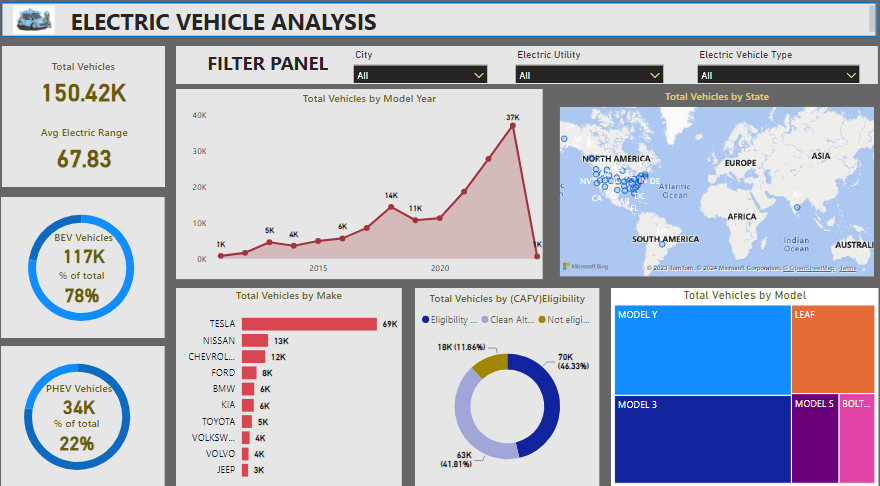

The dashboard page shown, as its layout file describes it:
{"tool":"powerbi","page":{"name":"Page 1","canvas":[1280,720],"ordinal":0},"visuals":[{"type":"shape","box":[18.6,17.1,1241.4,50],"z":0},{"type":"textbox","box":[111.4,17.1,1150,50],"z":1000},{"type":"shape","box":[19.8,79.4,231,199.8],"z":2000},{"type":"card","title":"Total Vehicles","fields":{"Values":["Electric_Vehicle_Population_Data.Total Vehicles"]},"box":[63.7,97.3,142.6,70.5],"z":3000},{"type":"card","title":" Avg Electric Range","fields":{"Values":["Avg(Electric_Vehicle_Population_Data.Electric Range)"]},"box":[33.6,191.2,204.7,70.5],"z":4000},{"type":"shape","box":[18.4,293.4,232.4,199.8],"z":5000},{"type":"shape","box":[18.4,504.6,232.4,199.8],"z":6000},{"type":"donutChart","fields":{"Category":["Electric_Vehicle_Population_Data.Electric Vehicle Type"],"Y":["Electric_Vehicle_Population_Data.Total Vehicles"]},"box":[25.2,295.3,213.1,198],"z":7000},{"type":"card","title":"BEV  Vehicles","fields":{"Values":["Electric_Vehicle_Population_Data.BEV Vehicles"]},"box":[83.9,340.6,104,52],"z":8000},{"type":"donutChart","fields":{"Category":["Electric_Vehicle_Population_Data.Electric Vehicle Type"],"Y":["Electric_Vehicle_Population_Data.Total Vehicles"]},"box":[20.1,506.6,213.1,198],"z":9000},{"type":"card","title":"PHEV Vehicles","fields":{"Values":["Electric_Vehicle_Population_Data.PHEB Vehicles"]},"box":[73.8,553.6,110.7,52],"z":10000},{"type":"card","title":"% of total","fields":{"Values":["Electric_Vehicle_Population_Data.% of BEV"]},"box":[80.5,394.2,104,55.4],"z":11000},{"type":"card","title":"% of total","fields":{"Values":["Electric_Vehicle_Population_Data.% OF PHEV"]},"box":[73.8,603.9,104,55.4],"z":12000},{"type":"shape","box":[266.7,78.8,994.8,53.7],"z":13000},{"type":"shape","box":[266.7,140.9,520,270],"z":14000},{"type":"areaChart","fields":{"Category":["Electric_Vehicle_Population_Data.Model Year"],"Y":["Electric_Vehicle_Population_Data.Total Vehicles"]},"box":[284.3,142.9,511.4,268.6],"z":15000},{"type":"map","title":"Total Vehicles  by State","fields":{"Category":["Electric_Vehicle_Population_Data.State"]},"box":[805,140.3,456.4,270.7],"z":16000},{"type":"shape","box":[266.7,422.8,320.4,281.8],"z":17000},{"type":"shape","box":[605.6,422.8,261.7,281.8],"z":18000},{"type":"donutChart","title":"Total Vehicles by (CAFV)Eligibility","fields":{"Category":["Electric_Vehicle_Population_Data.Clean Alternative Fuel Vehicle (CAFV) Eligibility"],"Y":["Electric_Vehicle_Population_Data.Total Vehicles"]},"box":[605.6,426.1,261.7,278.5],"z":19000},{"type":"barChart","fields":{"Category":["Electric_Vehicle_Population_Data.Make"],"Y":["Electric_Vehicle_Population_Data.Total Vehicles"]},"box":[266.7,422.8,320.4,281.8],"z":20000},{"type":"shape","box":[882.4,422.8,379.1,281.8],"z":21000},{"type":"treemap","fields":{"Group":["Electric_Vehicle_Population_Data.Model"],"Values":["Electric_Vehicle_Population_Data.Total Vehicles"]},"box":[882.4,422.8,379.1,281.8],"z":22000},{"type":"textbox","box":[266.7,78.8,260,53.7],"z":23000},{"type":"slicer","fields":{"Values":["Electric_Vehicle_Population_Data.City"]},"box":[507.1,78.6,211.4,54.3],"z":24000},{"type":"slicer","fields":{"Values":["Electric_Vehicle_Population_Data.Electric Utility"]},"box":[737.1,78.6,231.4,54.3],"z":25000},{"type":"slicer","fields":{"Values":["Electric_Vehicle_Population_Data.Electric Vehicle Type"]},"box":[994.3,78.6,251.4,54.3],"z":26000},{"type":"image","box":[18.6,17.1,92.9,50],"z":27000}]}

Visuals, with their boxes in screenshot pixels (x1, y1, x2, y2), scaled from the page's 1280x720 canvas onto the 880x486 screenshot:
shape: locate(13, 12, 866, 45)
textbox: locate(77, 12, 867, 45)
shape: locate(14, 54, 172, 188)
"Total Vehicles" card: locate(44, 66, 142, 113)
" Avg Electric Range" card: locate(23, 129, 164, 177)
shape: locate(13, 198, 172, 333)
shape: locate(13, 341, 172, 475)
donutChart - Electric_Vehicle_Population_Data.Electric Vehicle Type x Electric_Vehicle_Population_Data.Total Vehicles: locate(17, 199, 164, 333)
"BEV  Vehicles" card: locate(58, 230, 129, 265)
donutChart - Electric_Vehicle_Population_Data.Electric Vehicle Type x Electric_Vehicle_Population_Data.Total Vehicles: locate(14, 342, 160, 476)
"PHEV Vehicles" card: locate(51, 374, 127, 409)
"% of total" card: locate(55, 266, 127, 303)
"% of total" card: locate(51, 408, 122, 445)
shape: locate(183, 53, 867, 89)
shape: locate(183, 95, 541, 277)
areaChart - Electric_Vehicle_Population_Data.Model Year x Electric_Vehicle_Population_Data.Total Vehicles: locate(195, 96, 547, 278)
"Total Vehicles  by State" map: locate(553, 95, 867, 277)
shape: locate(183, 285, 404, 476)
shape: locate(416, 285, 596, 476)
"Total Vehicles by (CAFV)Eligibility" donutChart: locate(416, 288, 596, 476)
barChart - Electric_Vehicle_Population_Data.Make x Electric_Vehicle_Population_Data.Total Vehicles: locate(183, 285, 404, 476)
shape: locate(607, 285, 867, 476)
treemap - Electric_Vehicle_Population_Data.Model x Electric_Vehicle_Population_Data.Total Vehicles: locate(607, 285, 867, 476)
textbox: locate(183, 53, 362, 89)
slicer - Electric_Vehicle_Population_Data.City: locate(349, 53, 494, 90)
slicer - Electric_Vehicle_Population_Data.Electric Utility: locate(507, 53, 666, 90)
slicer - Electric_Vehicle_Population_Data.Electric Vehicle Type: locate(684, 53, 856, 90)
image: locate(13, 12, 77, 45)
